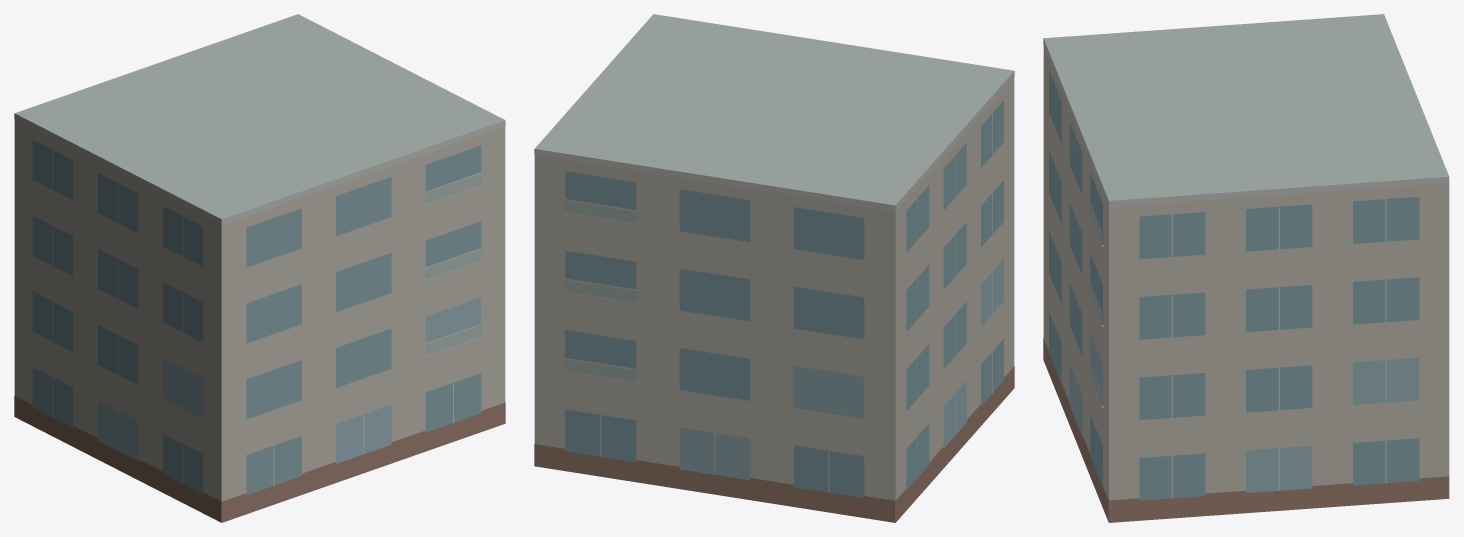
Rendered from survey-upis-32738032.glb.
The picture shows the model from 3 angles, left to right: view 1: azimuth 30°, elevation 25°; view 2: azimuth 150°, elevation 25°; view 3: azimuth 270°, elevation 25°; orthographic projection. The views are drawn at different scales.
Visible parts, largest first — view 1: survey-upis-32738032.tmp; view 2: survey-upis-32738032.tmp; view 3: survey-upis-32738032.tmp.
Boxes of the visible parts, x1,y1,x2,y2 form: survey-upis-32738032.tmp: (14,14,505,522); survey-upis-32738032.tmp: (534,14,1014,522); survey-upis-32738032.tmp: (1043,14,1449,522).
Bounding box in the file's own units: 15.45 × 12.4 × 14.17.
